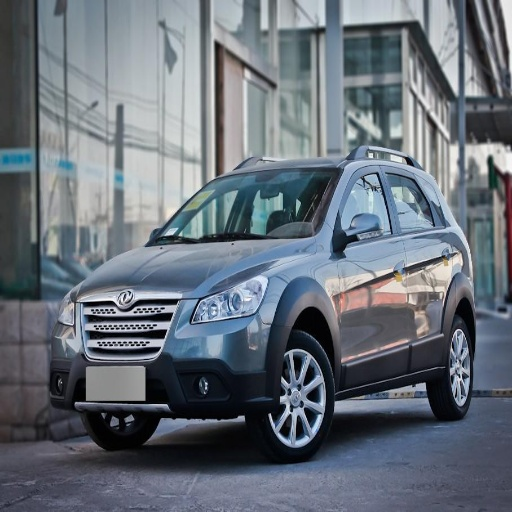front_bumper: (51, 286, 272, 419)
front_glass: (148, 168, 342, 245)
front_left_door: (335, 164, 414, 386)
